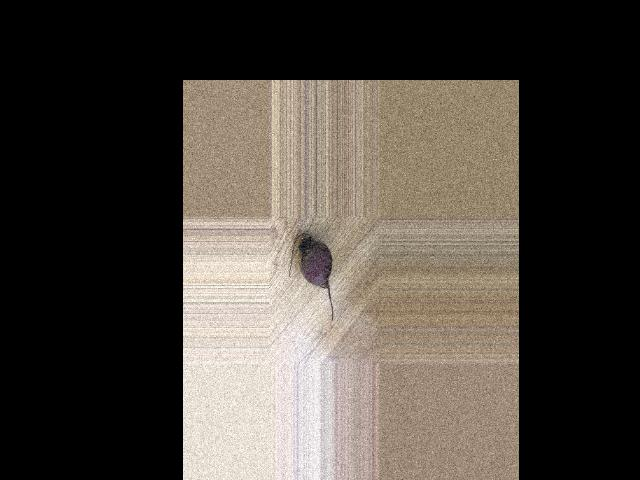beet: (289, 233, 333, 322)
